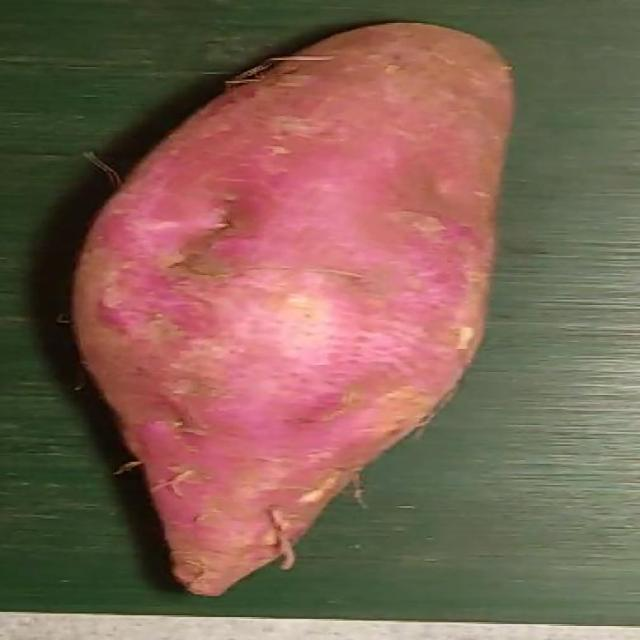Sweet Potato: (74, 21, 517, 599)
